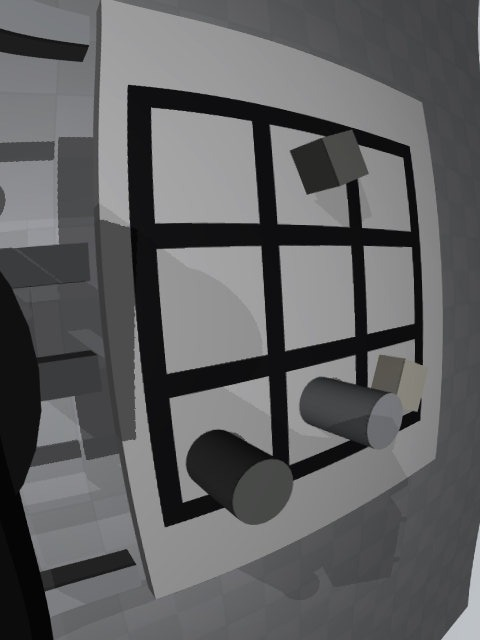can: (300, 376, 403, 449)
cube: (290, 129, 369, 195)
cylinder: (186, 430, 294, 525)
foam: (371, 355, 428, 412)
